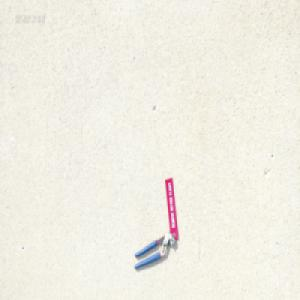Label: (165, 174, 178, 237)
Pliers: (133, 232, 175, 270)
